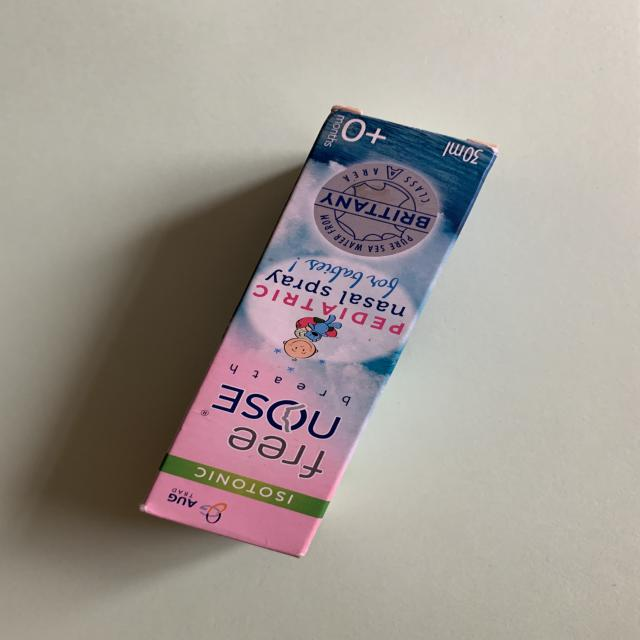Free Nose: (140, 106, 503, 570)
